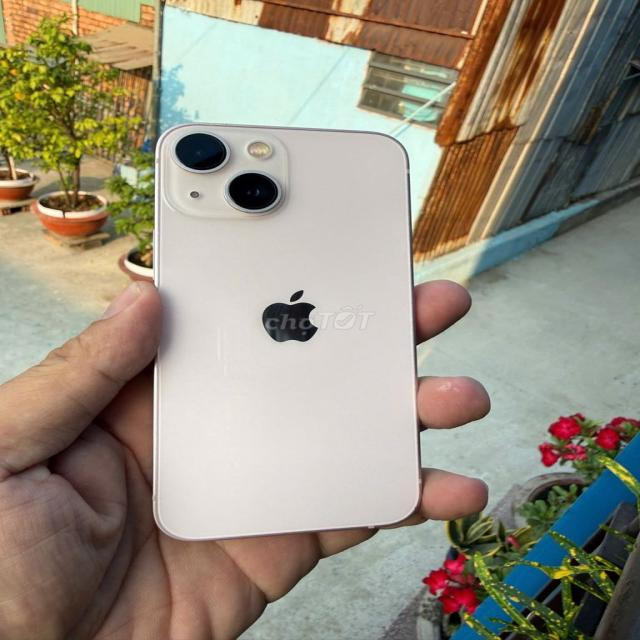gen_12_13: (140, 121, 433, 550)
